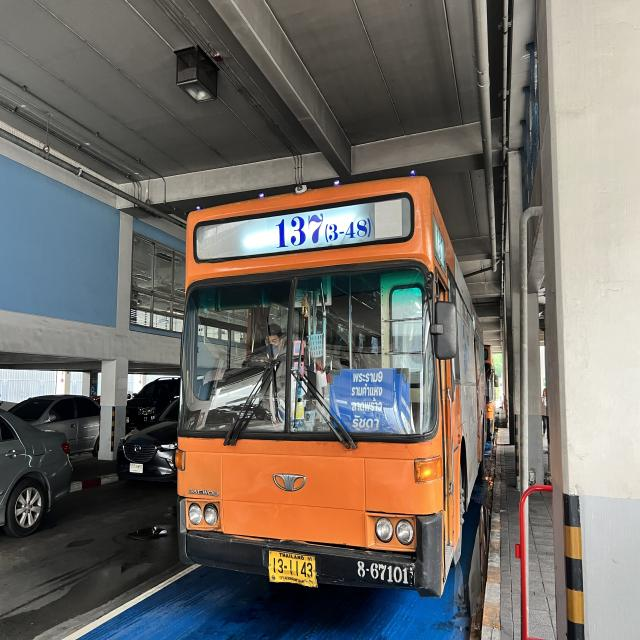BMTA-bus: (173, 175, 490, 600)
Bus-Line-Number: (272, 206, 372, 251)
Destination-Sign-Normal: (327, 368, 411, 436)
